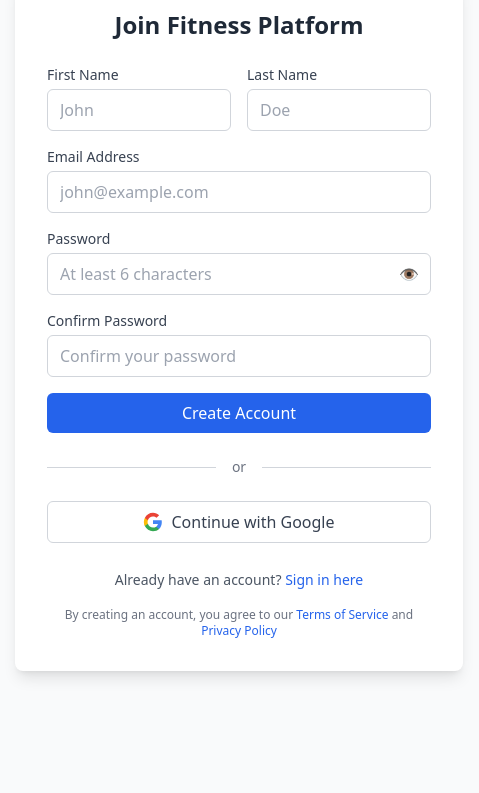
Test: SignupForm › should validate password length
Type "123" into the password field labelled "Password" at (239, 274), box [47, 253, 431, 295]
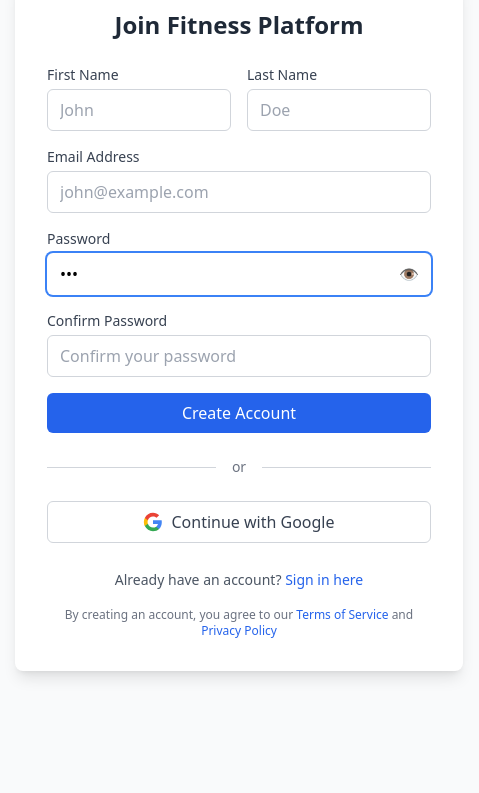
Click the button "Create Account" at (239, 413), box [47, 393, 431, 433]
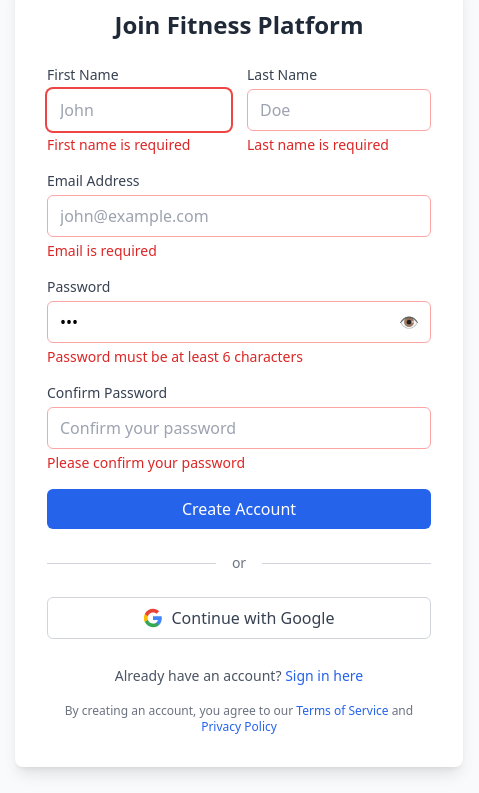
Now the text "Password must be at least 6 characters" is shown, box [47, 347, 303, 366]
